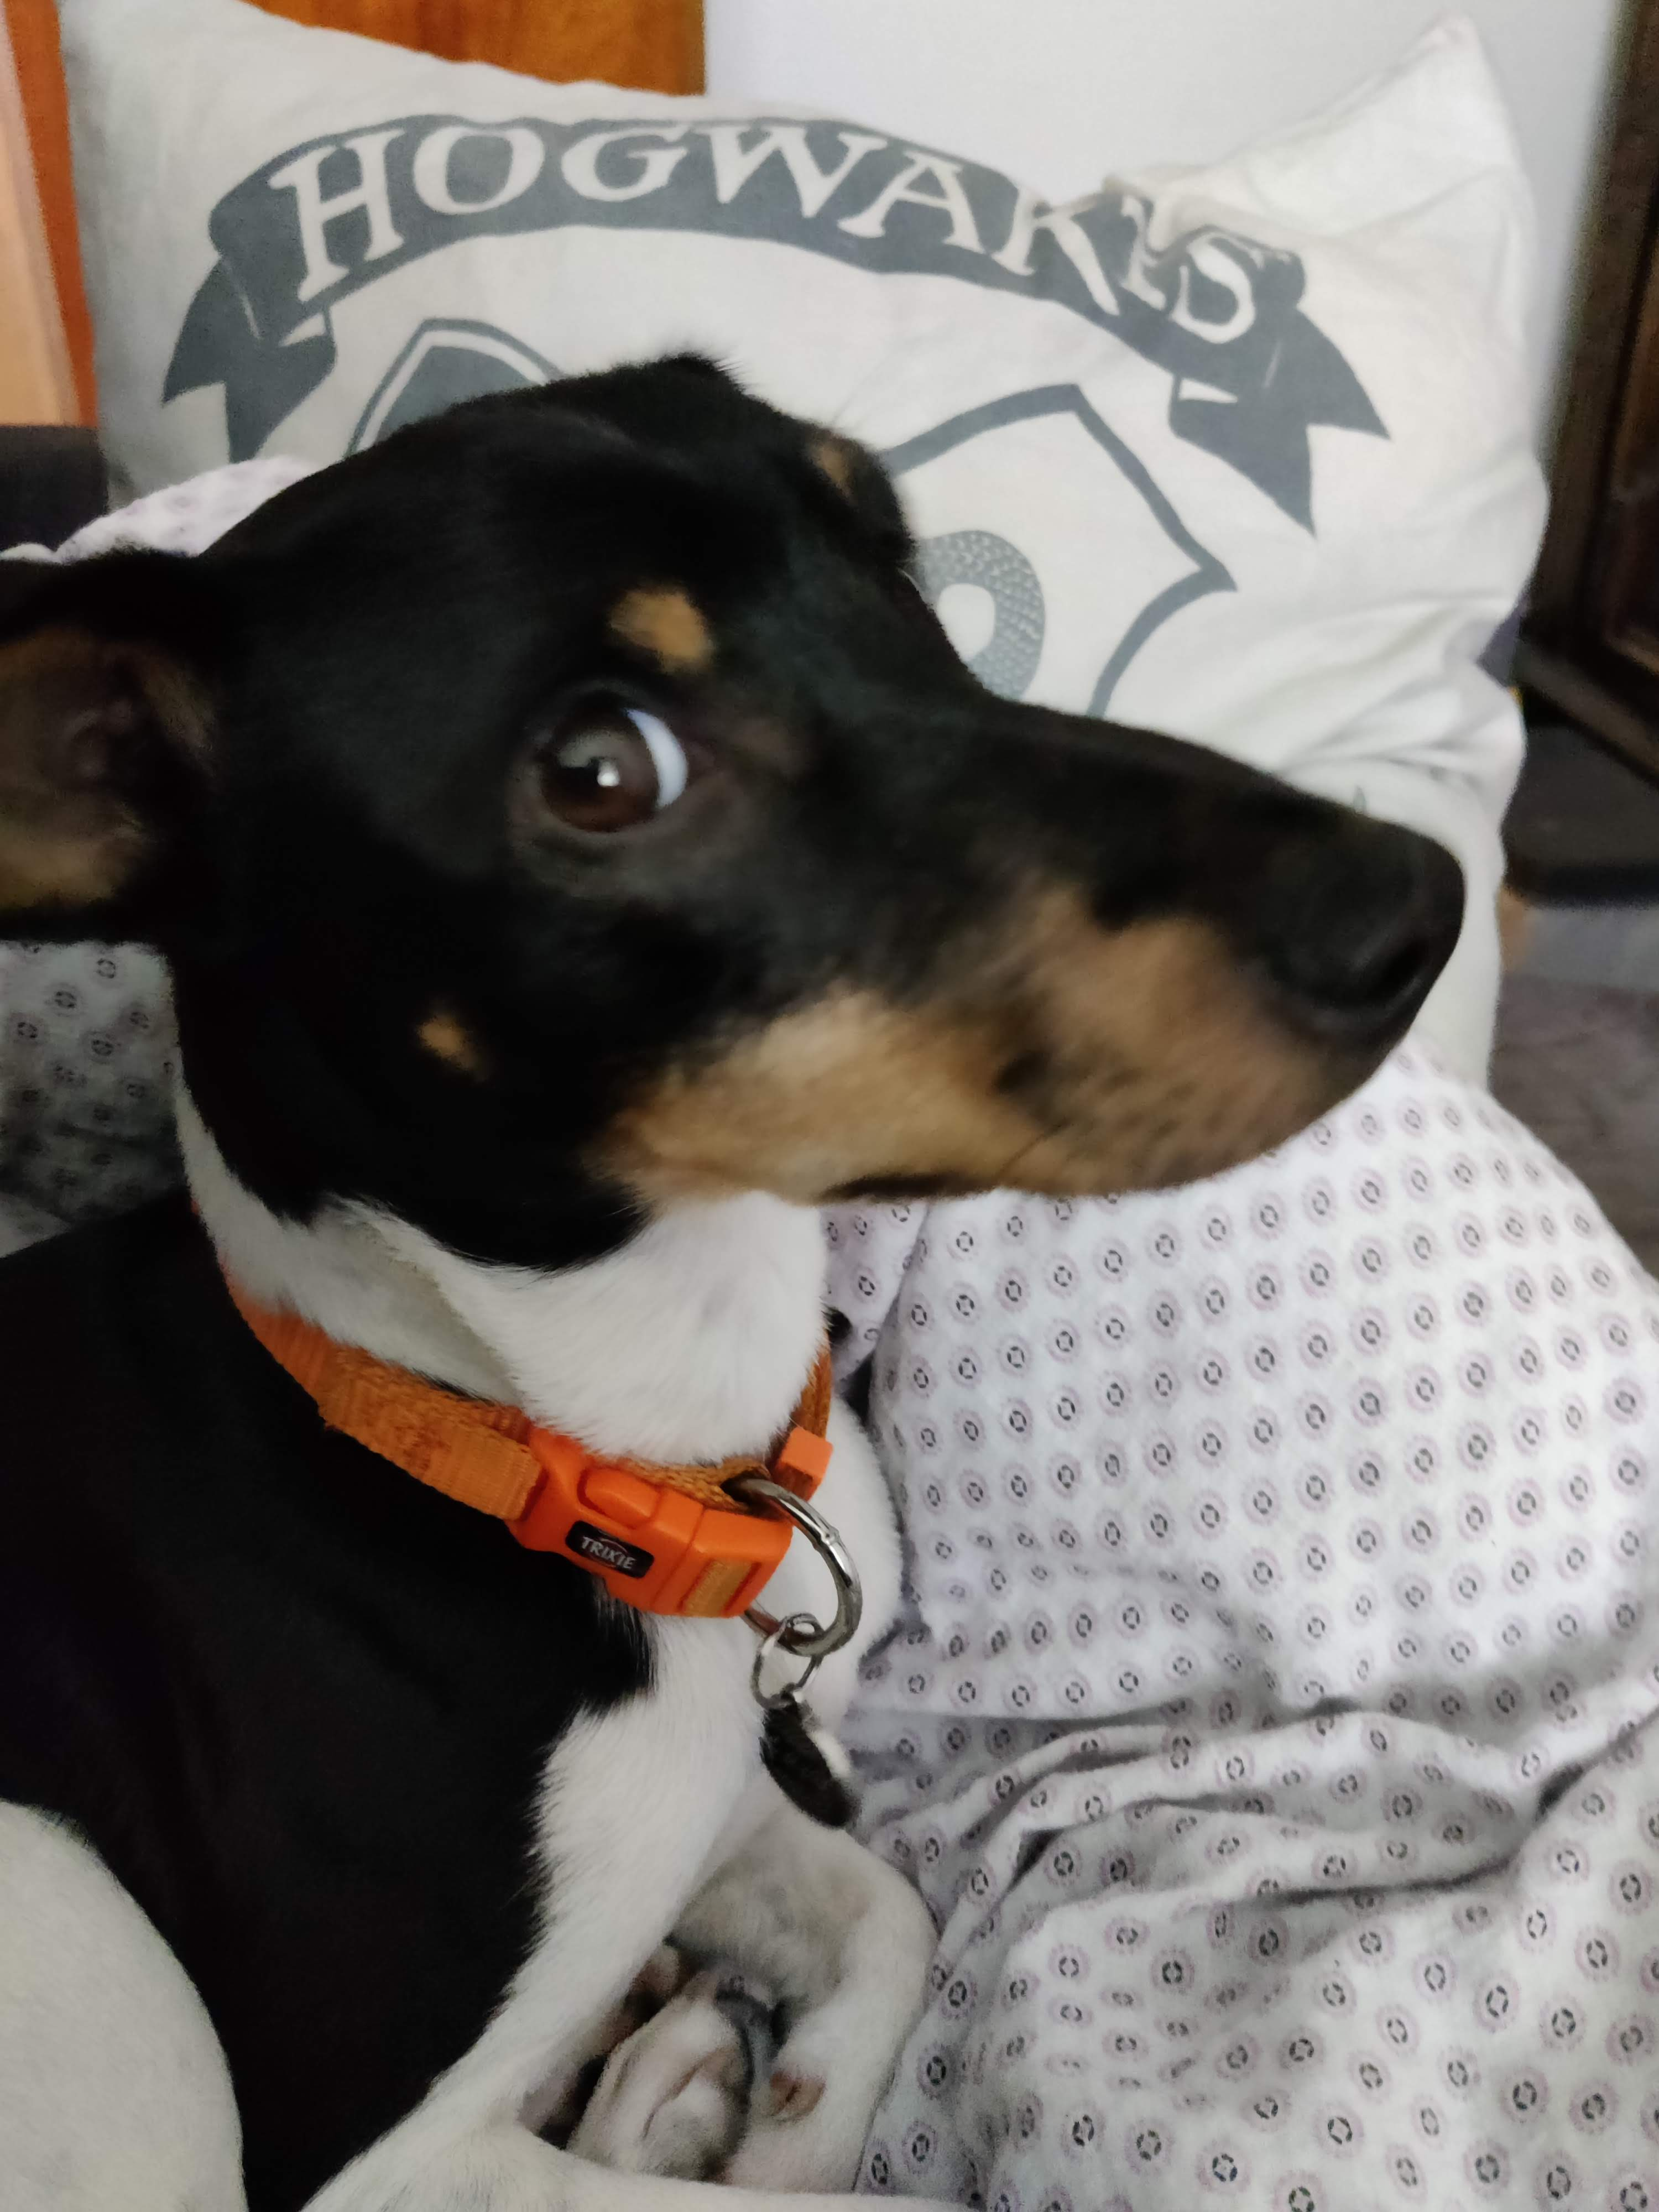Dog: (0, 317, 1480, 2212)
